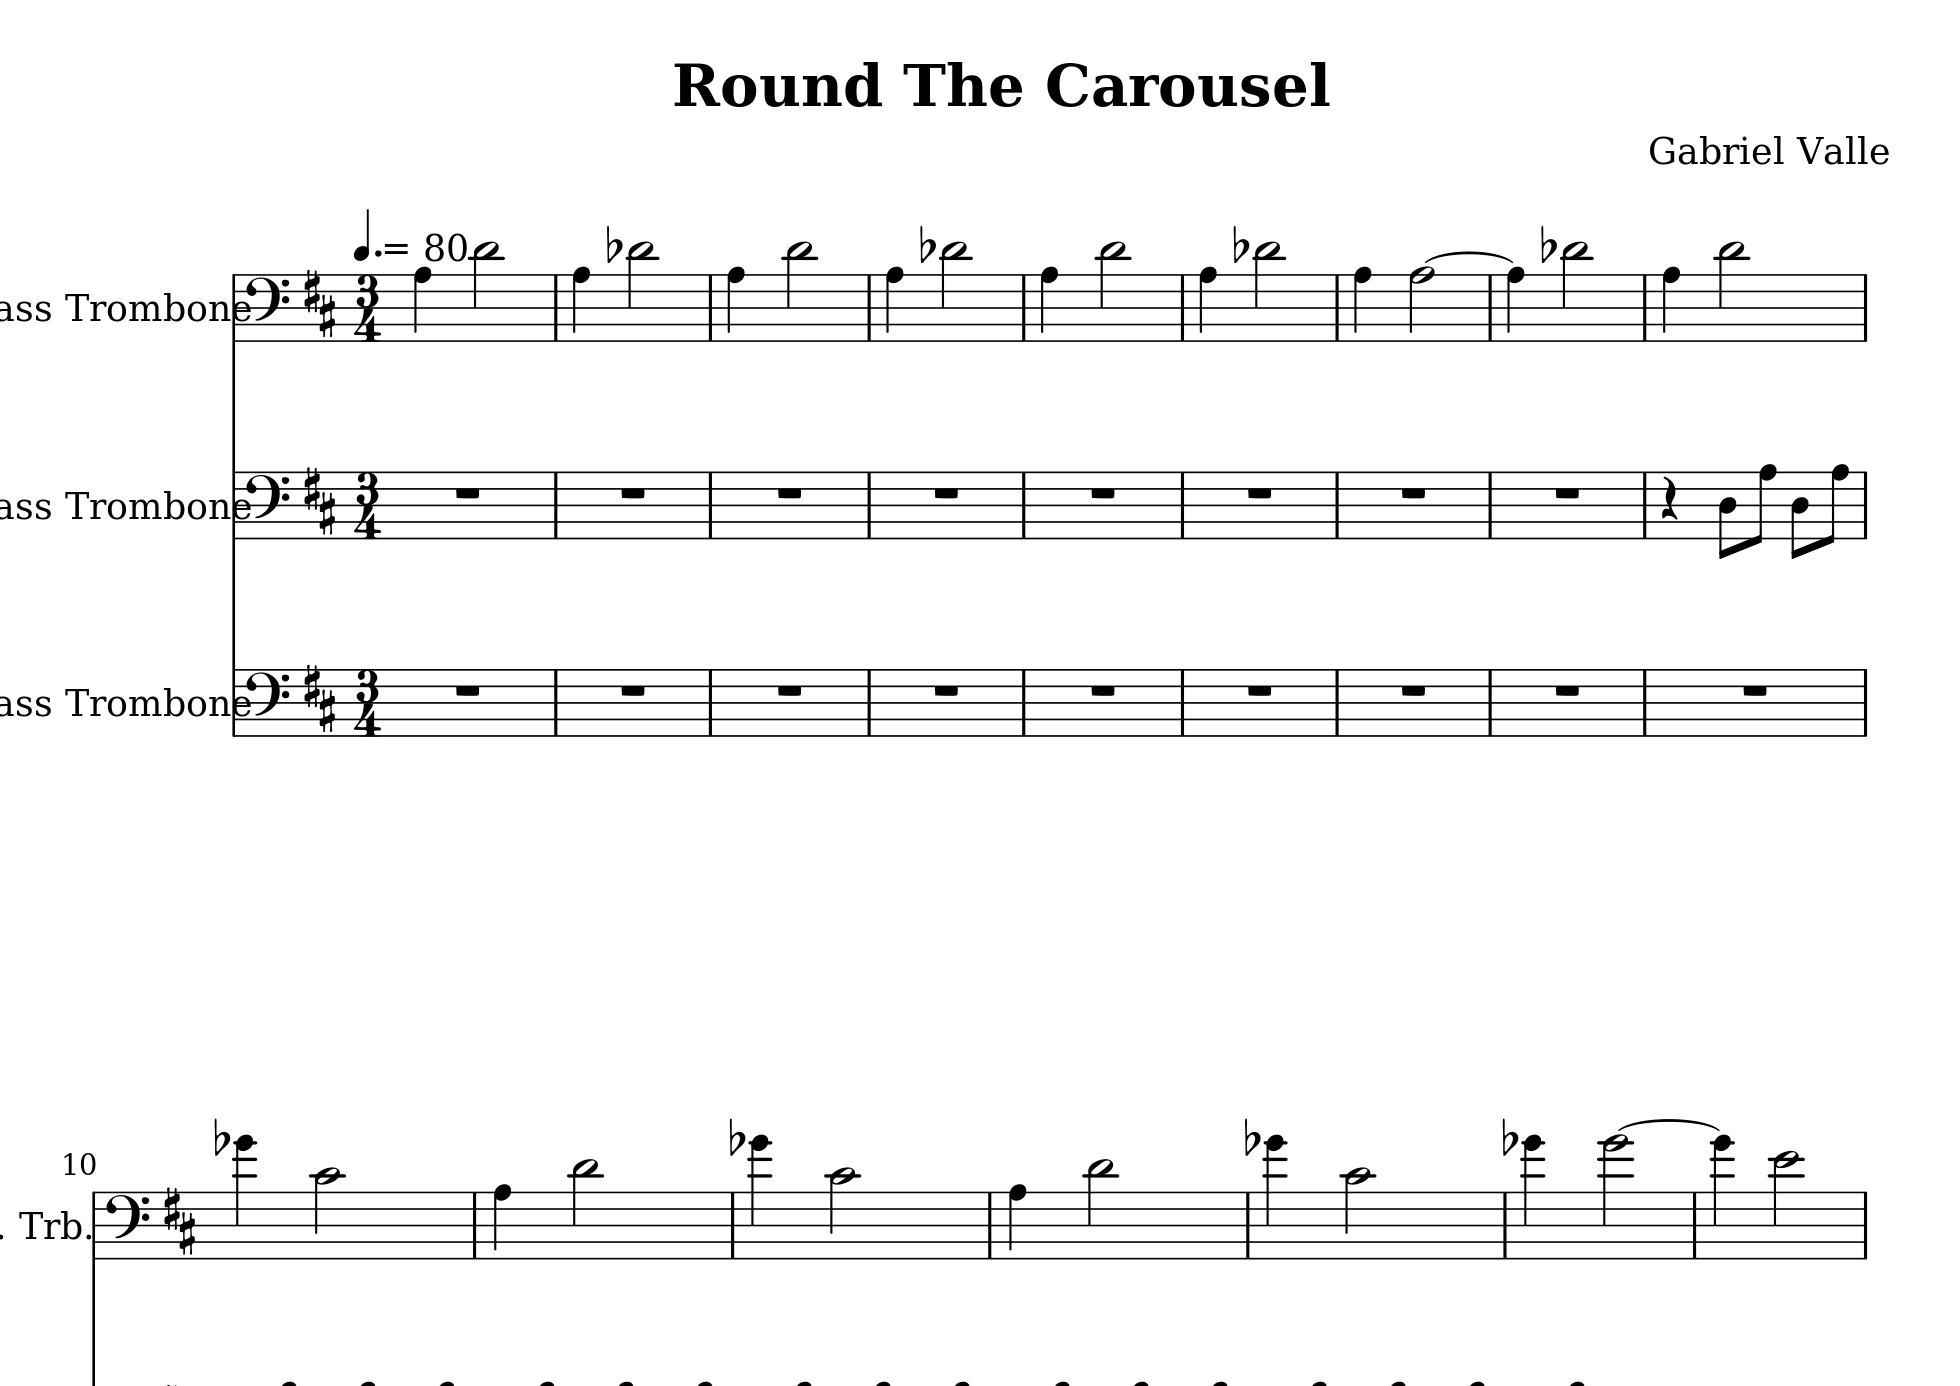0: (445, 229, 469, 262), (78, 1147, 97, 1177)
1: (61, 1149, 76, 1177)
2_10: (310, 1164, 345, 1261), (1342, 1165, 1377, 1263), (826, 1164, 859, 1263)
2_11: (568, 1156, 601, 1261), (469, 238, 501, 343), (1716, 240, 1747, 345), (1098, 240, 1129, 343), (1252, 240, 1284, 343), (939, 241, 970, 343), (1560, 238, 1590, 343), (1086, 1156, 1116, 1261), (625, 240, 655, 343), (784, 240, 814, 343)
2_12: (1771, 1147, 1803, 1261)
2_13: (1600, 1132, 1632, 1261)
2_8: (1408, 265, 1437, 343)
3: (354, 271, 381, 307), (354, 469, 381, 505), (354, 667, 381, 703)
4: (352, 307, 384, 340), (352, 504, 382, 538), (352, 702, 382, 736)
4_14: (747, 1132, 774, 1261), (1263, 1132, 1290, 1261), (231, 1132, 256, 1261), (1521, 1132, 1546, 1261), (1710, 1132, 1734, 1261)
4_8: (1038, 264, 1063, 345), (1660, 265, 1686, 345), (1197, 264, 1221, 345), (490, 1180, 514, 1261), (1006, 1180, 1030, 1261), (570, 264, 594, 343), (724, 264, 748, 343), (1504, 264, 1528, 343), (883, 265, 907, 343), (1351, 265, 1375, 343), (412, 264, 433, 343)
8: (421, 229, 445, 262)
8_4: (1788, 468, 1812, 561), (1716, 469, 1738, 561)
8_8: (1749, 462, 1779, 546), (1822, 462, 1852, 546)
Bass: (1, 687, 52, 721), (1, 292, 52, 325), (1, 490, 52, 523)
D_S: (163, 1183, 196, 1255)
Fclef: (244, 271, 291, 343), (103, 1189, 150, 1261), (244, 469, 291, 540), (244, 666, 291, 736)
Flat: (916, 222, 934, 265), (1539, 222, 1557, 264), (211, 1114, 229, 1156), (726, 1114, 744, 1156), (1242, 1114, 1260, 1156), (1500, 1114, 1518, 1156), (604, 222, 621, 264), (1231, 223, 1248, 264)
Rests1: (1086, 681, 1120, 700), (1551, 483, 1584, 502), (616, 681, 649, 700), (772, 681, 805, 700), (930, 681, 963, 700), (1243, 681, 1276, 700), (1398, 681, 1431, 700), (1551, 681, 1584, 700), (1740, 681, 1771, 700), (451, 483, 484, 501), (616, 484, 649, 502), (772, 484, 805, 502), (1086, 484, 1119, 502), (1243, 484, 1276, 502), (1398, 484, 1431, 502), (451, 679, 484, 697), (930, 484, 961, 502)
Rests4: (1659, 475, 1680, 522)
Single_barline: (981, 1189, 1002, 1258), (466, 1189, 486, 1258), (226, 273, 244, 342), (1329, 469, 1347, 538), (1482, 469, 1500, 538), (1329, 667, 1347, 736), (1482, 667, 1500, 736), (724, 1189, 742, 1258), (1240, 1189, 1258, 1258), (702, 273, 720, 340), (861, 273, 879, 340), (1015, 273, 1033, 340), (1174, 273, 1192, 340), (1329, 273, 1347, 340), (1482, 273, 1500, 340), (226, 471, 244, 538), (547, 274, 565, 340), (702, 469, 718, 538), (1174, 469, 1191, 538), (226, 667, 243, 736), (702, 667, 718, 736), (861, 667, 877, 736), (1015, 667, 1032, 736), (1174, 667, 1191, 736), (1857, 667, 1873, 736), (1497, 1189, 1513, 1258), (1857, 1189, 1873, 1258), (1638, 273, 1654, 340), (547, 471, 564, 538), (861, 471, 877, 538), (1015, 471, 1032, 538), (1636, 471, 1653, 538), (1636, 669, 1653, 736), (1687, 1191, 1704, 1258), (1857, 274, 1873, 340), (547, 669, 564, 735), (1858, 469, 1873, 540), (88, 1191, 102, 1258)
Slur: (1617, 1117, 1722, 1132), (1423, 249, 1515, 265)
Speed4: (352, 205, 409, 262)
Speed_4=80: (352, 202, 469, 264)
TimeSig: (352, 469, 384, 538), (352, 271, 382, 340), (352, 667, 382, 736)
Trb: (16, 1204, 82, 1245)
